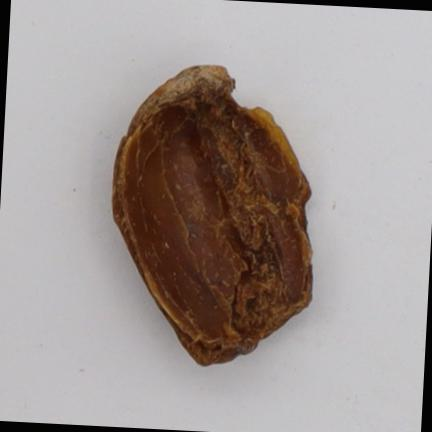full-black: (113, 66, 312, 364)
